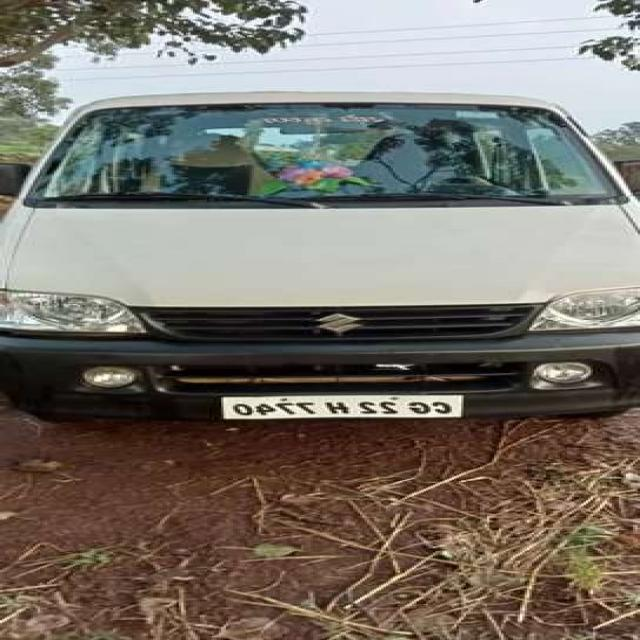license_plate: (215, 392, 470, 424)
